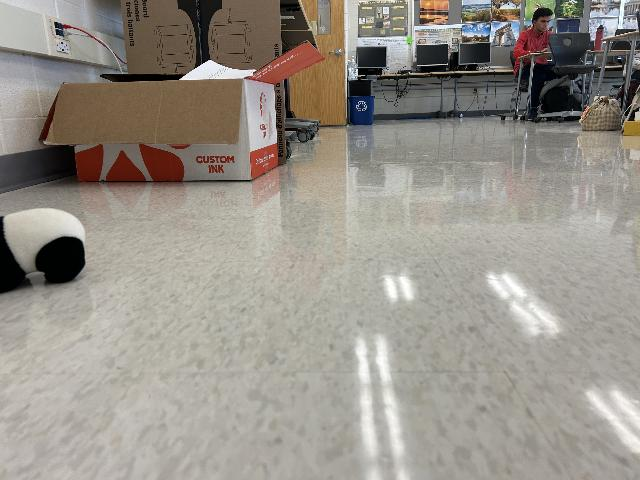panda_plushie: (0, 210, 86, 292)
